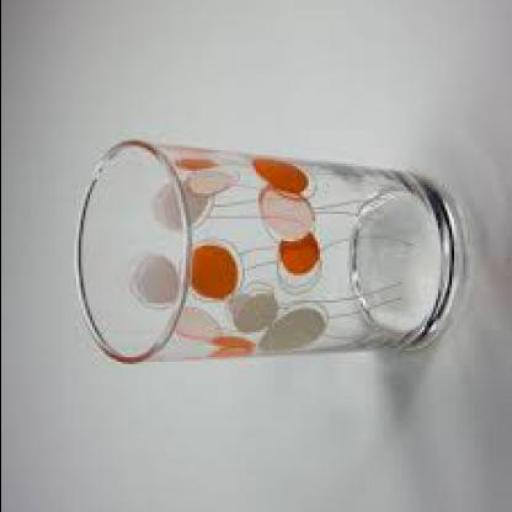glass: (73, 144, 460, 366)
